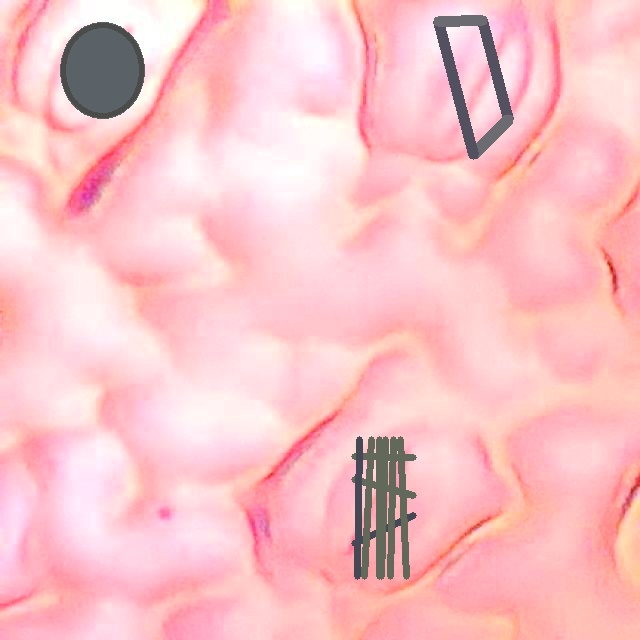close: (60, 22, 144, 119)
open: (434, 16, 512, 158), (351, 436, 416, 579)
